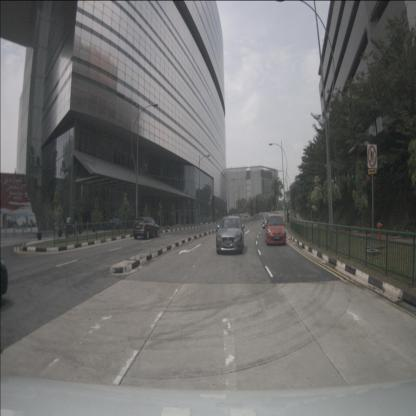human-pedestrian-adult: (286, 209, 290, 227)
vehicle-car: (216, 217, 244, 254), (265, 214, 286, 245), (133, 217, 159, 239), (105, 216, 125, 230), (263, 214, 272, 228)
vehicle-motorcycle: (64, 215, 77, 238)
